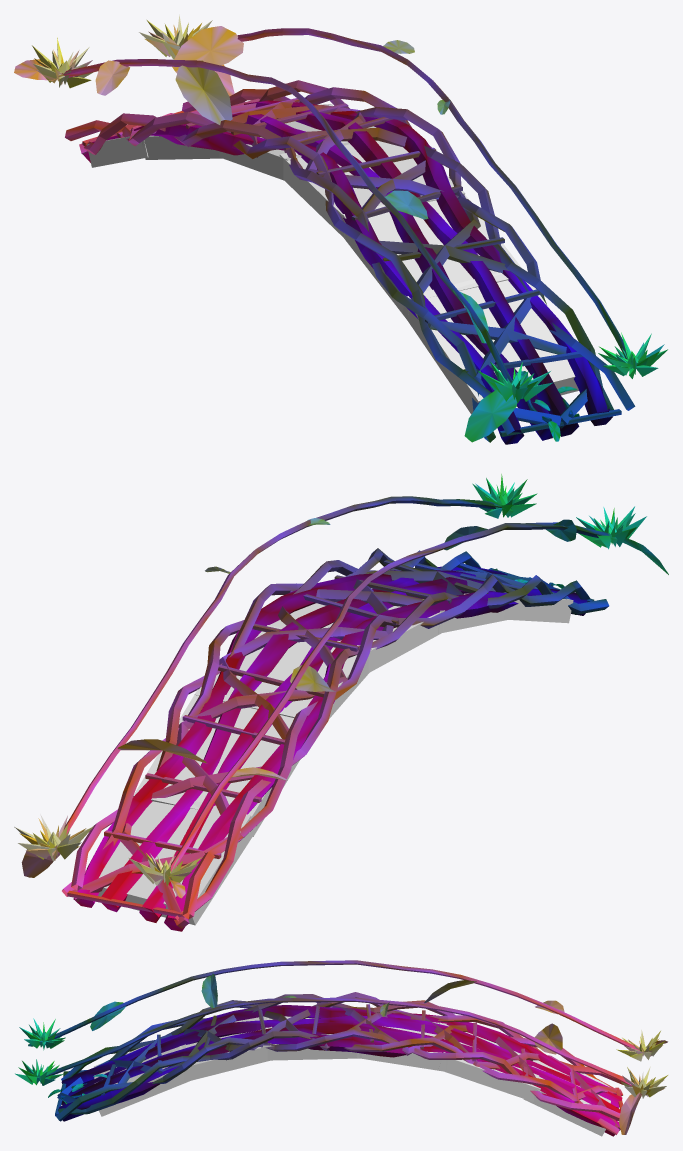
File: Plant_Bridge_04.fbx
3 renders of one model, top to bottom at view 1: azimuth 30°, elevation 25°; view 2: azimuth 150°, elevation 25°; view 3: azimuth 270°, elevation 25°, orthographic. The views are drawn at different scales.
Parts seen in each view (by area): view 1: Plant_Bridge_04, COL_04_0, COL_04_1, COL_04_2, COL_04_3, COL_04_4, COL_04_5; view 2: Plant_Bridge_04, COL_04_5, COL_04_4, COL_04_3, COL_04_2, COL_04_0, COL_04_1; view 3: Plant_Bridge_04, COL_04_4, COL_04_1, COL_04_0, COL_04_2, COL_04_3, COL_04_5.
Boxes of the visible parts, x1,y1,x2,y2 form: Plant_Bridge_04: (14,14,667,444); COL_04_0: (402,272,578,414); COL_04_1: (339,194,521,317); COL_04_2: (279,140,465,238); COL_04_3: (219,104,376,180); COL_04_4: (142,104,332,159); COL_04_5: (87,136,148,167); Plant_Bridge_04: (14,474,668,931); COL_04_5: (98,801,256,925); COL_04_4: (133,689,300,836); COL_04_3: (194,625,371,718); COL_04_2: (269,603,444,672); COL_04_0: (503,599,573,623); COL_04_1: (371,588,509,633); Plant_Bridge_04: (15,960,667,1136); COL_04_4: (438,1022,540,1101); COL_04_1: (179,1016,272,1082); COL_04_0: (93,1044,189,1116); COL_04_2: (263,1007,366,1060); COL_04_3: (356,1006,448,1071); COL_04_5: (523,1060,610,1136).
Bounding box in the file's own units: 3.1 × 3.02 × 12.4.
